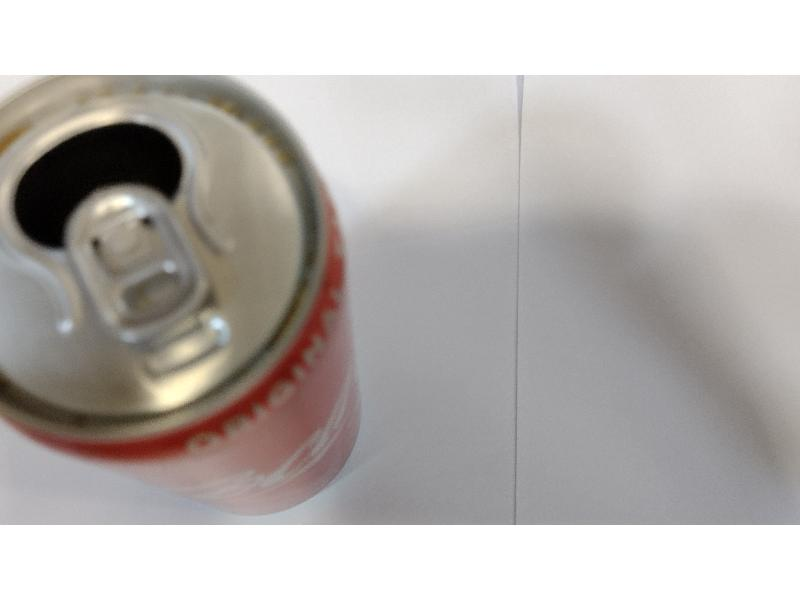can: (1, 77, 387, 524)
